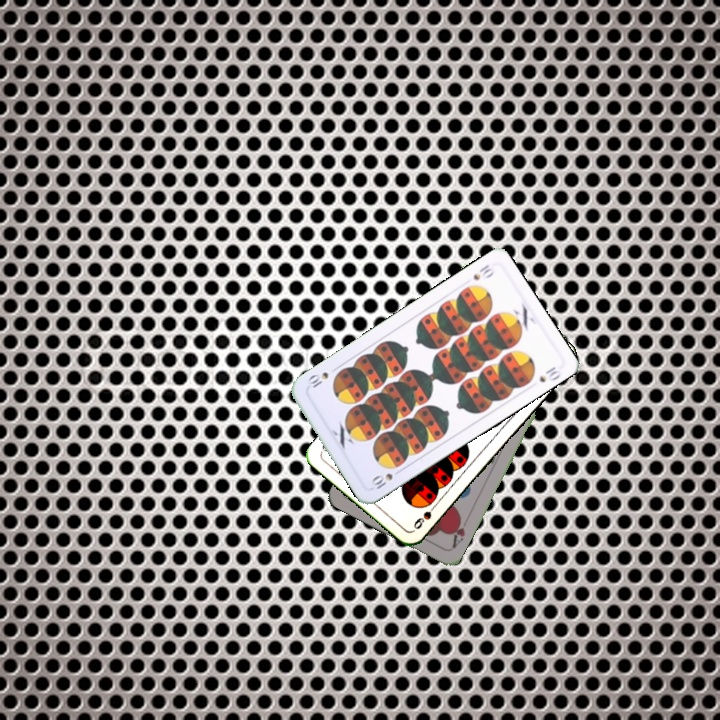HA: (447, 512, 468, 551)
S10: (367, 465, 405, 492), (469, 260, 497, 283)
S9: (409, 498, 440, 532)
